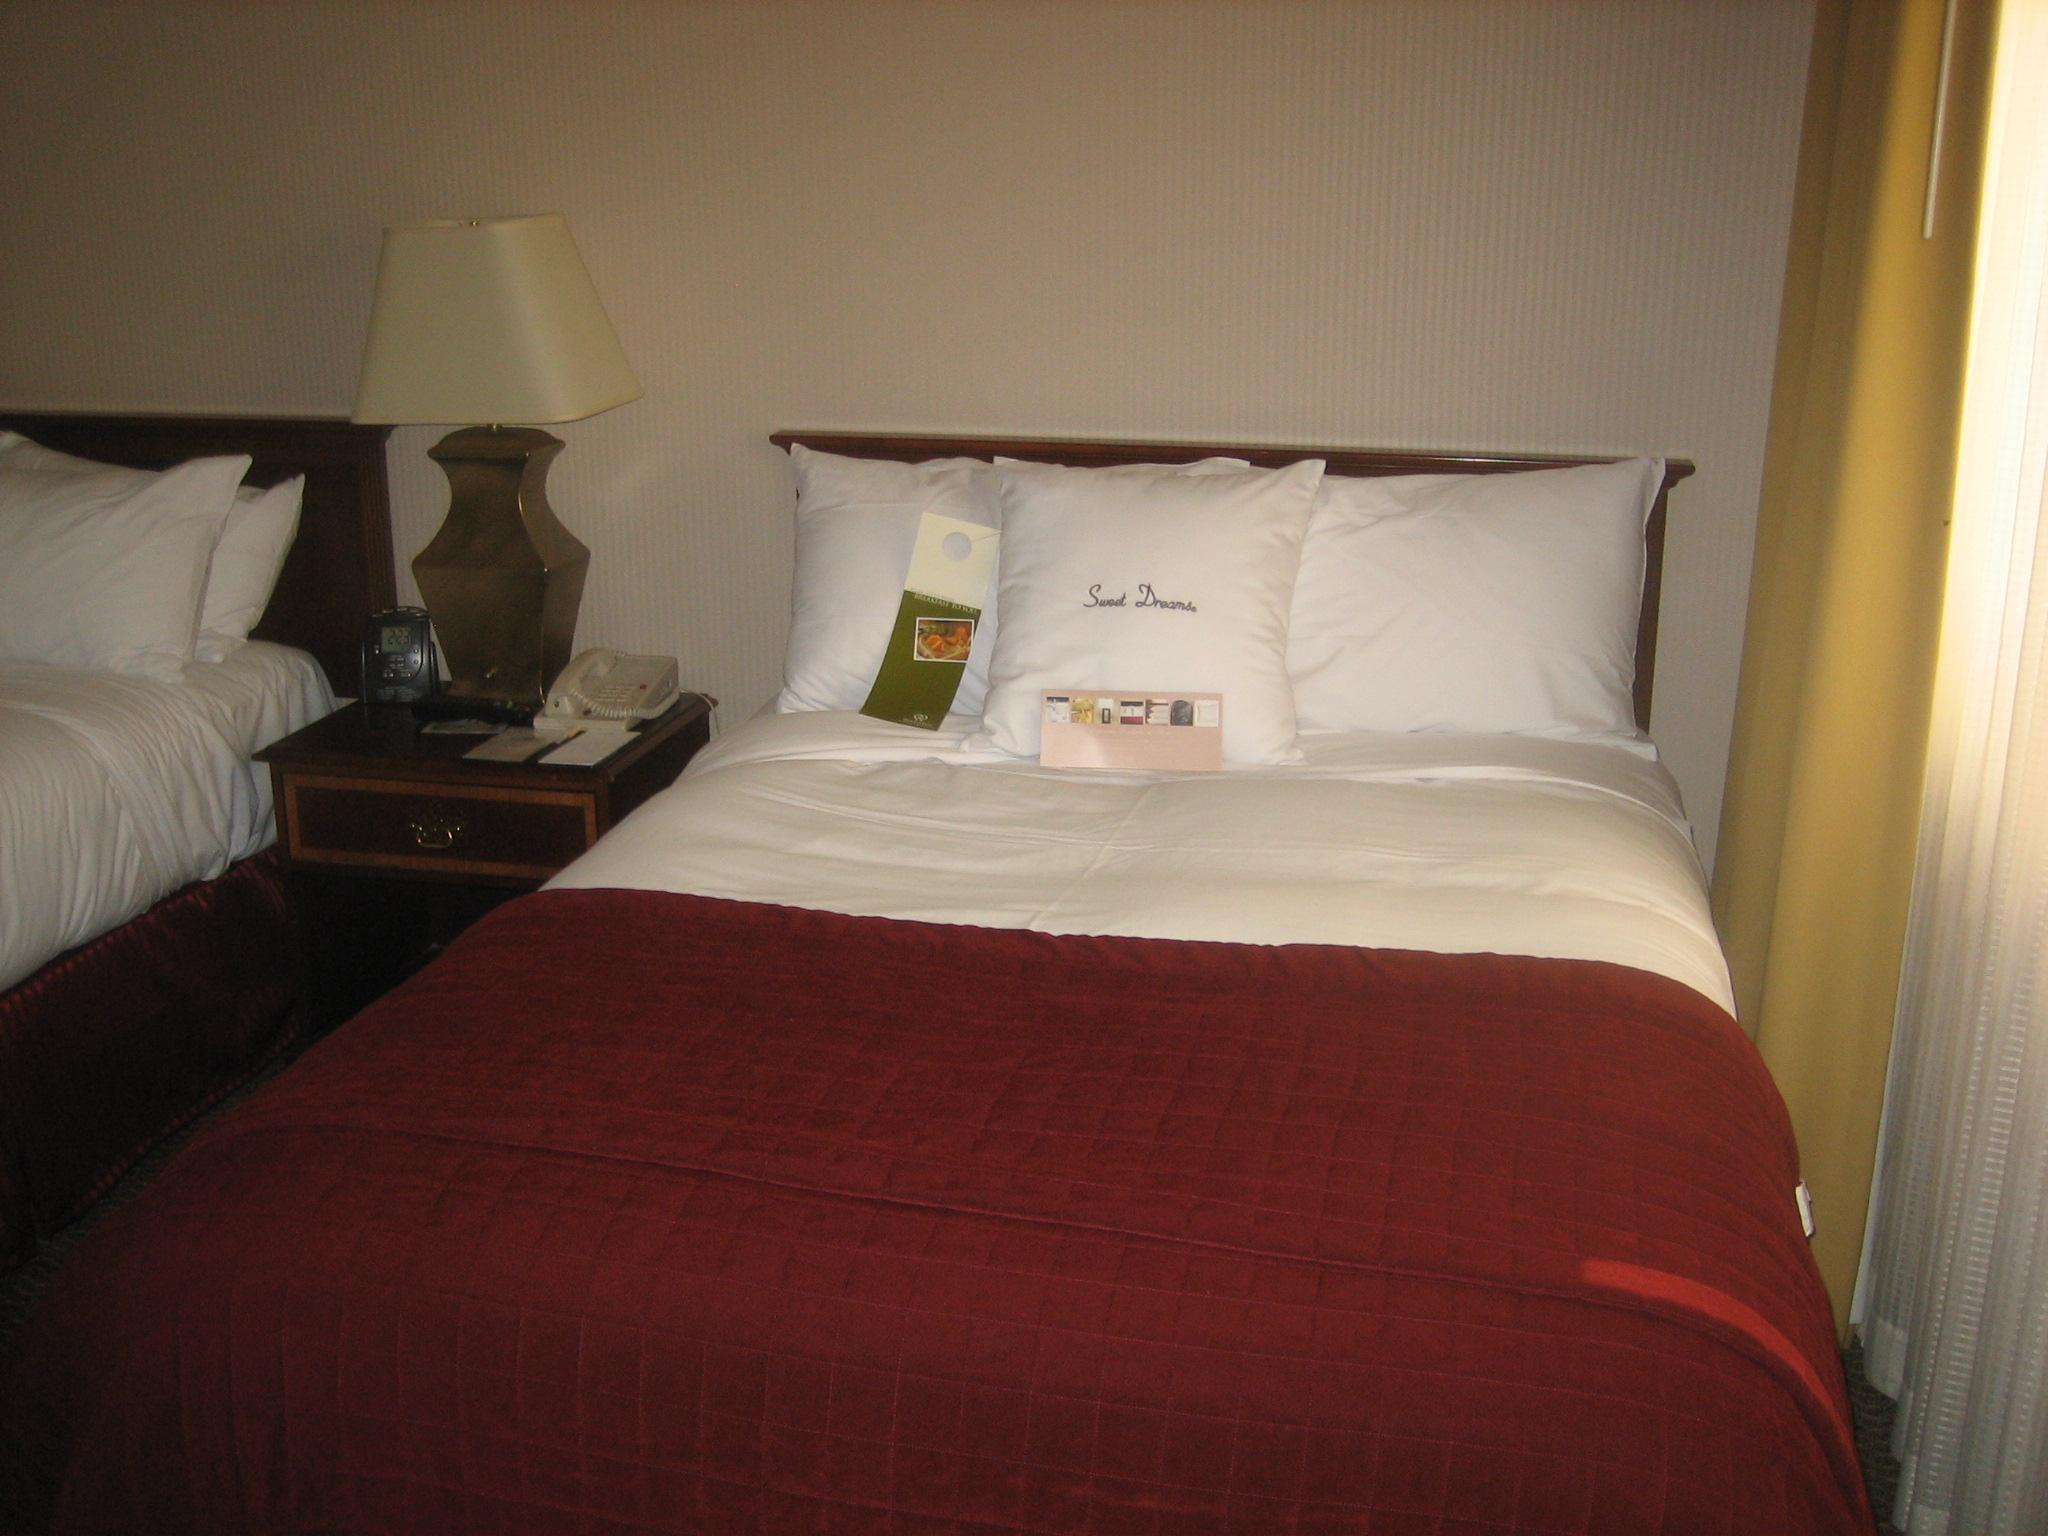Cama: (21, 399, 1763, 1494), (11, 440, 393, 1242)
